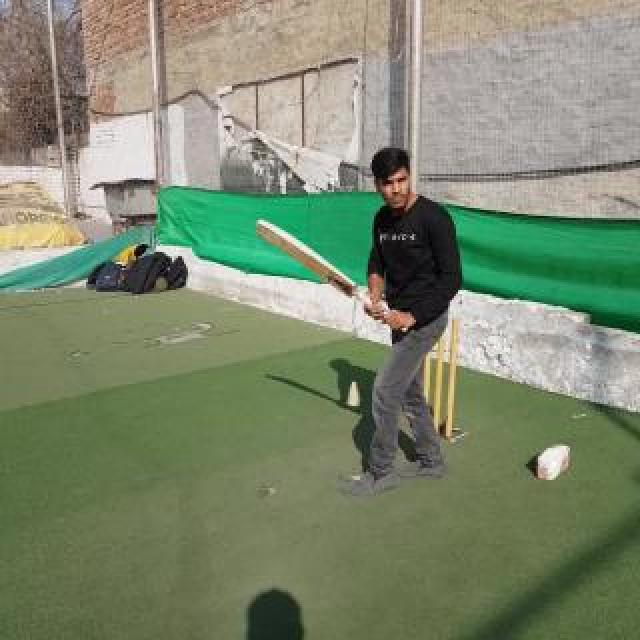bat: (256, 218, 408, 332)
